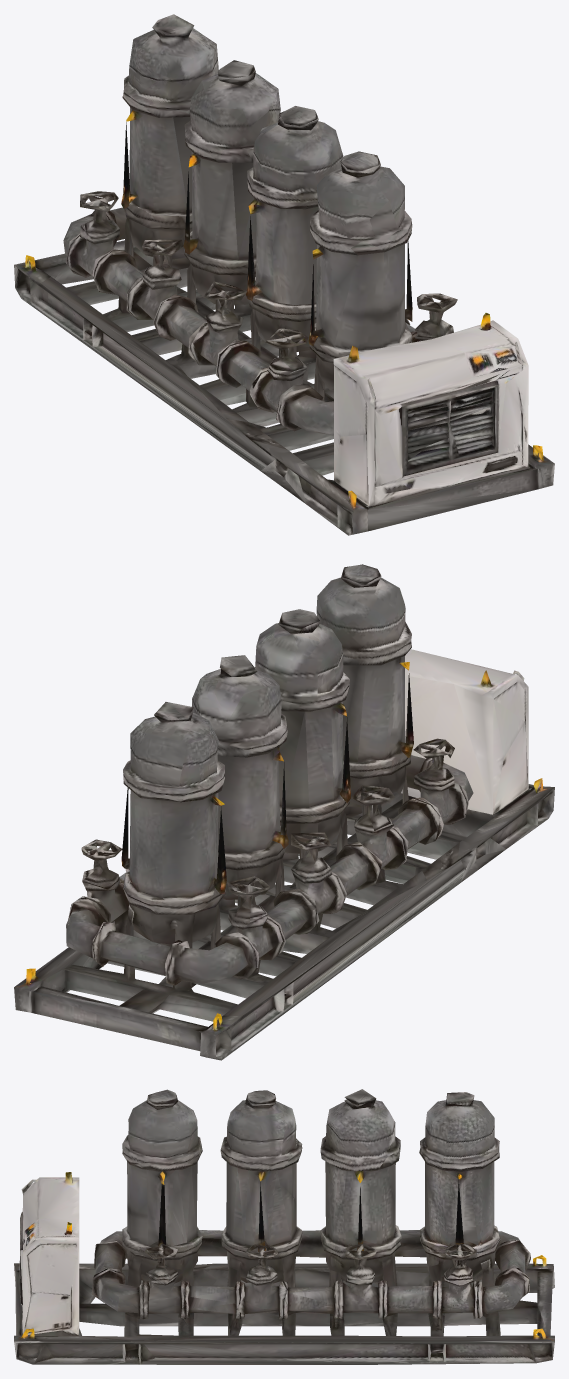
File: vesselSkid.glb
3 renders of one model, top to bottom at view 1: azimuth 30°, elevation 25°; view 2: azimuth 150°, elevation 25°; view 3: azimuth 270°, elevation 25°, orthographic. The views are drawn at different scales.
Parts seen in each view (by area): view 1: vesselSkid; view 2: vesselSkid; view 3: vesselSkid.
Part boxes in pixels (x1=…): vesselSkid: x1=14, y1=14, x2=554, y2=535; vesselSkid: x1=14, y1=564, x2=554, y2=1060; vesselSkid: x1=14, y1=1089, x2=554, y2=1364.
Size of the model in its own units: 4.43 by 6.11 by 13.
Materials: 1 (1 with a texture image).
